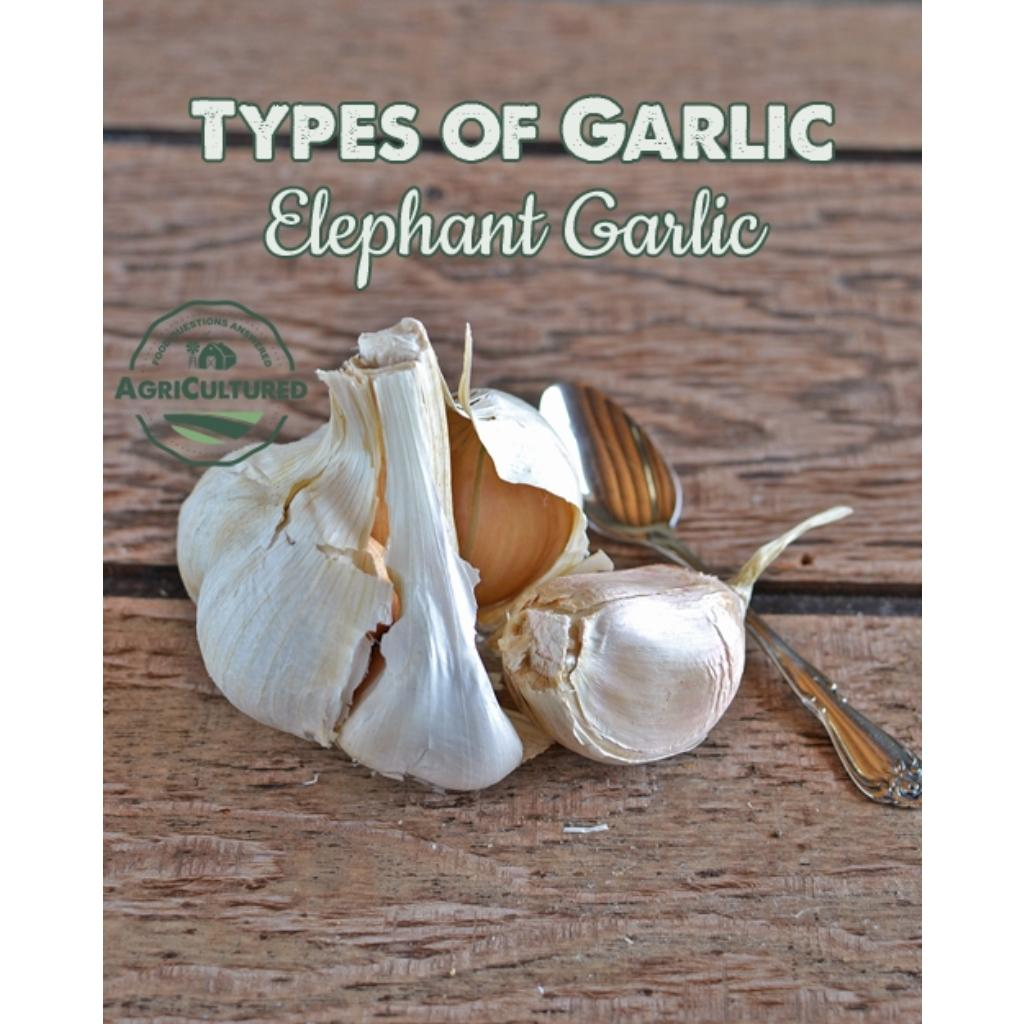garlic: (176, 316, 847, 786), (174, 316, 520, 786), (497, 505, 847, 760), (335, 316, 520, 786)
